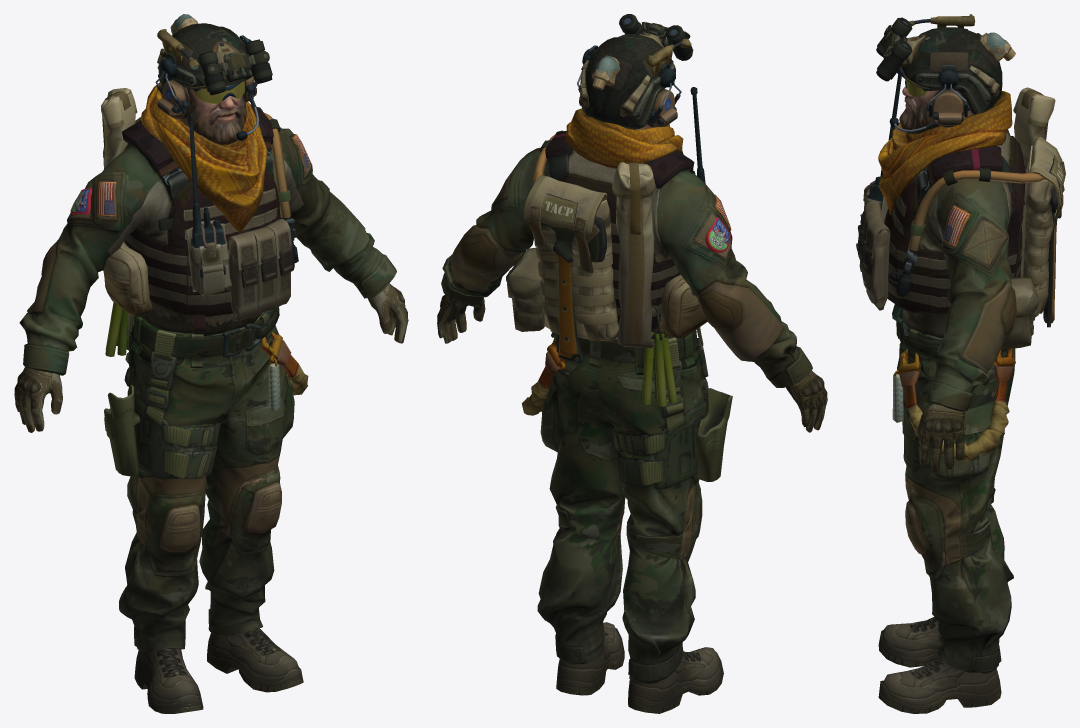
The model's file is two_times_mccoy__tacp_cavalry.glb.
3 renders of one model, left to right at view 1: azimuth 30°, elevation 25°; view 2: azimuth 150°, elevation 25°; view 3: azimuth 270°, elevation 25°, orthographic.
Parts seen in each view (by area): view 1: Variantl/ctm_st6_variantl.smd_0; view 2: Variantl/ctm_st6_variantl.smd_0; view 3: Variantl/ctm_st6_variantl.smd_0.
Boxes of the visible parts, x1,y1,x2,y2 form: Variantl/ctm_st6_variantl.smd_0: [14, 14, 408, 713]; Variantl/ctm_st6_variantl.smd_0: [437, 14, 827, 713]; Variantl/ctm_st6_variantl.smd_0: [856, 14, 1065, 713].
Size of the model in its own units: 3.64 by 5.93 by 1.73.
7 materials, 7 textured.
